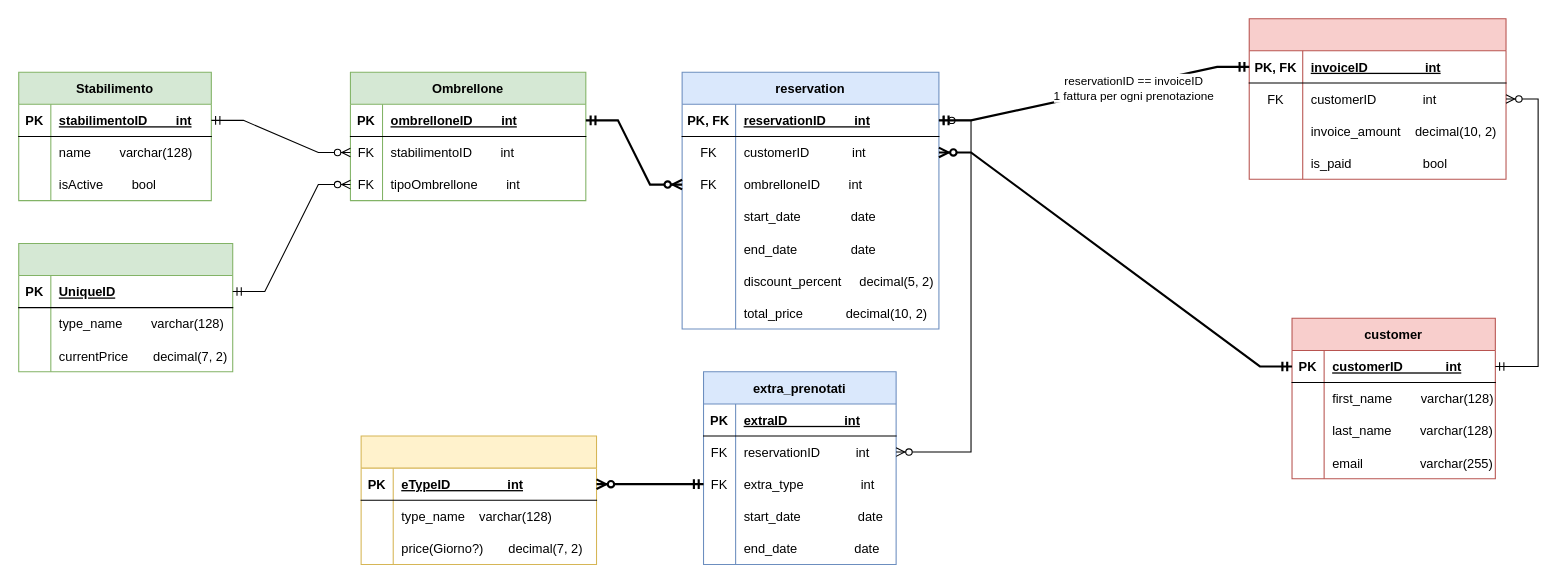
Some shapes in this 1566 by 583 pixel diagram are drawn without their labels. The shapes that lost their labels are listed below. From the top down, each one's box as (x1, y1, x2, y2) in pixels, then its label:
(1248, 18, 1506, 179): customer_invoice
(18, 242, 233, 372): tipoOmbrellone
(360, 435, 597, 564): extra_type
